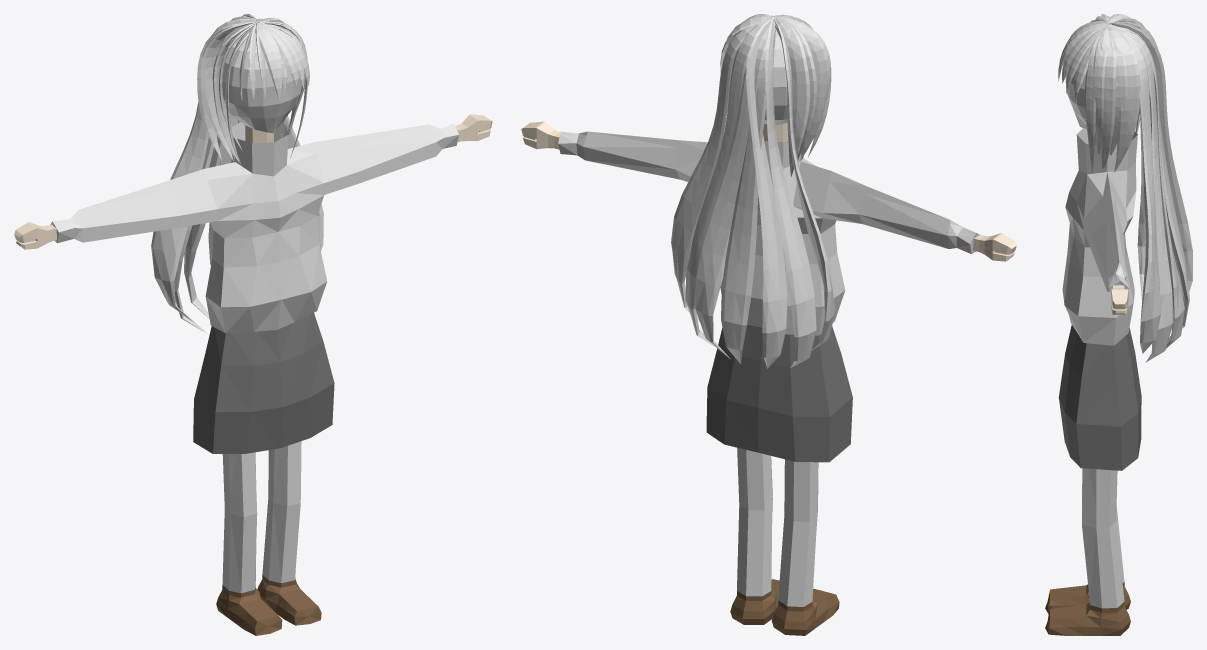
File: bocchi.fbx
3 views of the same model, side by side, from view 1: azimuth 30°, elevation 25°; view 2: azimuth 150°, elevation 25°; view 3: azimuth 270°, elevation 25° (orthographic). The views are drawn at different scales.
Parts seen in each view (by area): view 1: Circle.001, Circle.002, Circle.003, Circle.004, Sphere, NurbsPath.013, Cube, NurbsPath.021, NurbsPath.015, NurbsPath, NurbsPath.020, NurbsPath.014 (+1 smaller); view 2: Circle.001, Circle.002, Circle.003, NurbsPath.012, NurbsPath.011, NurbsPath.014, NurbsPath.015, NurbsPath.009, Circle.004, NurbsPath.010, NurbsPath.013, NurbsPath.022 (+4 smaller); view 3: Circle.001, Circle.002, Circle.003, NurbsPath.009, Circle.004, NurbsPath.010, NurbsPath.015, NurbsPath.006, NurbsPath.011, NurbsPath.012, NurbsPath.005, NurbsPath.007 (+9 smaller).
Boxes of the visible parts, <box> form: Circle.001: <box>50,122,458,333</box>; Circle.002: <box>193,313,334,453</box>; Circle.003: <box>222,441,301,593</box>; Circle.004: <box>216,575,321,635</box>; Sphere: <box>222,31,301,133</box>; NurbsPath.013: <box>151,18,257,322</box>; Cube: <box>14,114,492,249</box>; NurbsPath.021: <box>200,21,257,160</box>; NurbsPath.015: <box>184,14,257,318</box>; NurbsPath: <box>255,22,282,100</box>; NurbsPath.020: <box>212,21,259,163</box>; NurbsPath.014: <box>174,16,257,333</box>; Circle.001: <box>558,131,979,335</box>; Circle.002: <box>706,325,852,462</box>; Circle.003: <box>737,447,818,606</box>; NurbsPath.012: <box>721,27,775,363</box>; NurbsPath.011: <box>693,29,768,359</box>; NurbsPath.014: <box>765,18,816,367</box>; NurbsPath.015: <box>746,17,787,368</box>; NurbsPath.009: <box>671,22,765,321</box>; Circle.004: <box>730,579,839,635</box>; NurbsPath.010: <box>685,23,764,346</box>; NurbsPath.013: <box>773,18,834,350</box>; NurbsPath.022: <box>775,17,810,176</box>; Circle.001: <box>1062,128,1137,345</box>; Circle.002: <box>1058,325,1141,470</box>; Circle.003: <box>1082,468,1124,608</box>; NurbsPath.009: <box>1113,25,1160,353</box>; Circle.004: <box>1045,582,1130,635</box>; NurbsPath.010: <box>1113,25,1173,362</box>; NurbsPath.015: <box>1110,22,1192,291</box>; NurbsPath.006: <box>1108,25,1140,172</box>; NurbsPath.011: <box>1127,30,1184,347</box>; NurbsPath.012: <box>1114,26,1189,343</box>; NurbsPath.005: <box>1100,25,1116,168</box>; NurbsPath.007: <box>1093,29,1106,154</box>.
Bounding box in the file's own units: 116 × 138 × 30.91.
